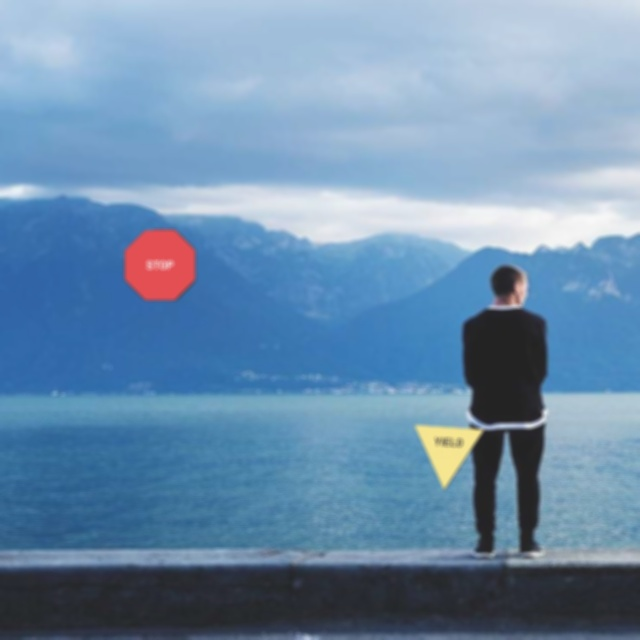STOP: (124, 229, 196, 301)
YIELD: (413, 424, 485, 491)
